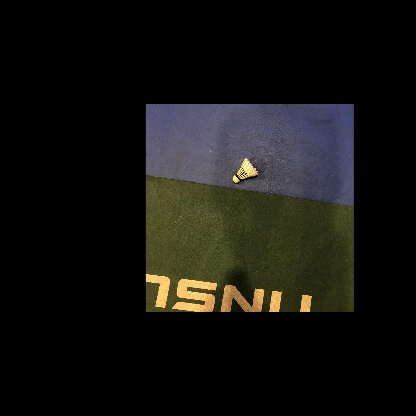ball_single: (233, 158, 258, 183)
